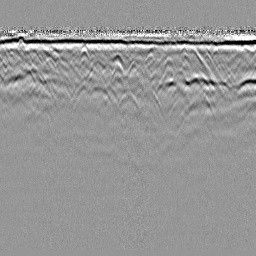cavity: (114, 88, 141, 114)
